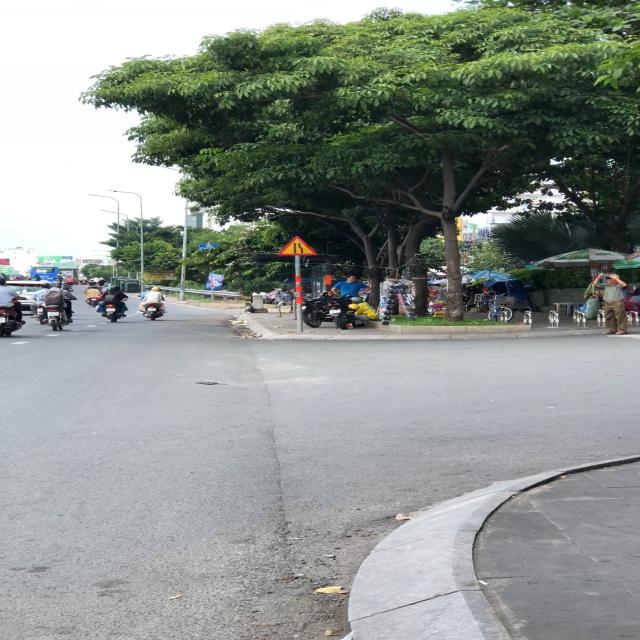Bien bao duong bi thu hep: (276, 234, 320, 256)
